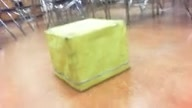cube: (44, 18, 130, 91)
